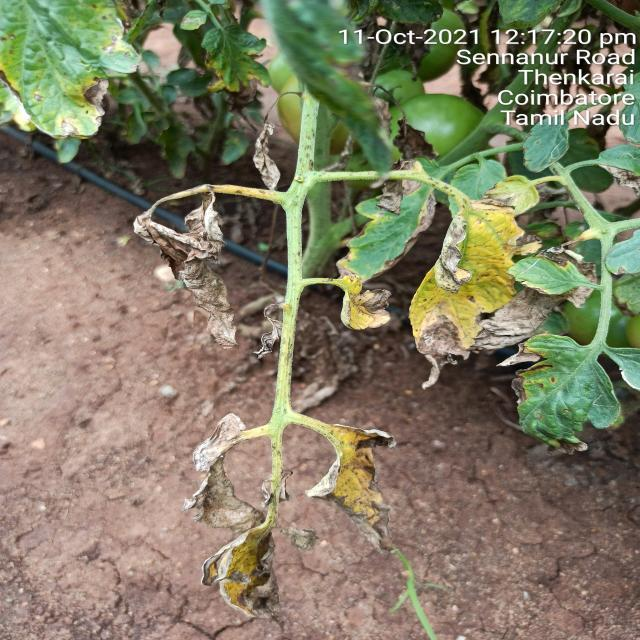Tomato mosaic virus leaf: (407, 198, 534, 394), (124, 188, 244, 352), (496, 330, 619, 458), (302, 422, 400, 554), (2, 49, 136, 140), (178, 407, 255, 529), (200, 516, 288, 620), (506, 244, 596, 312), (330, 272, 396, 332), (243, 109, 288, 189), (247, 303, 283, 363)
